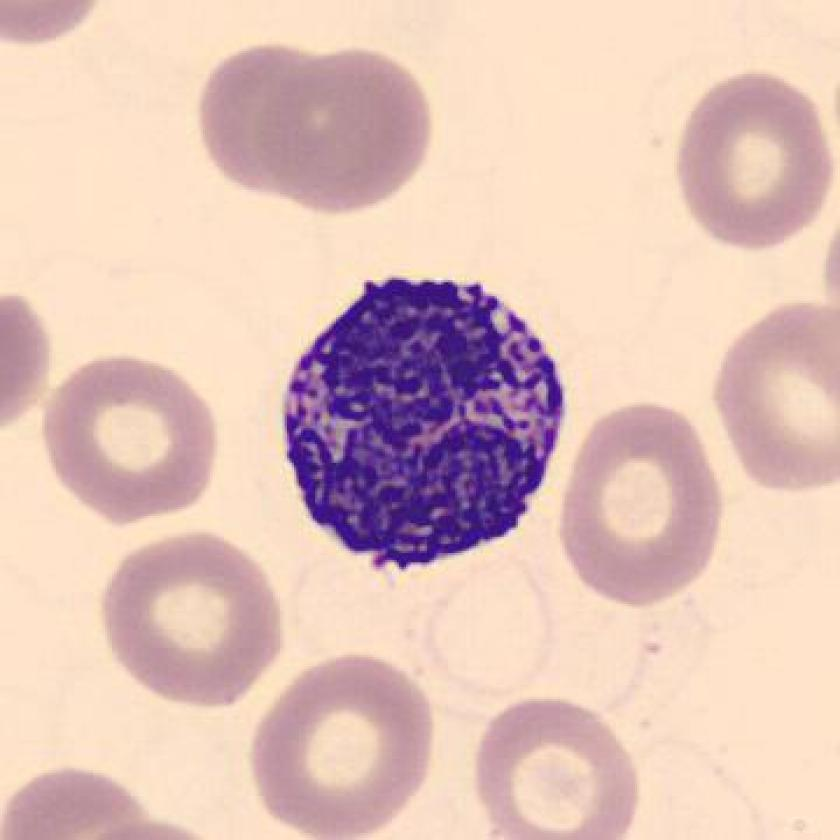basophil: (267, 270, 570, 578)
